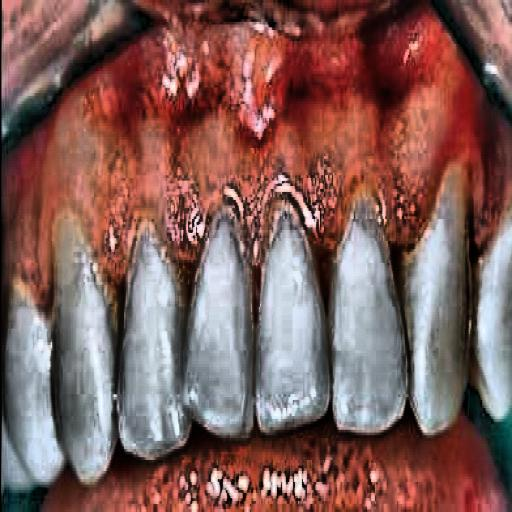Gingivitis: (1, 50, 512, 264)
